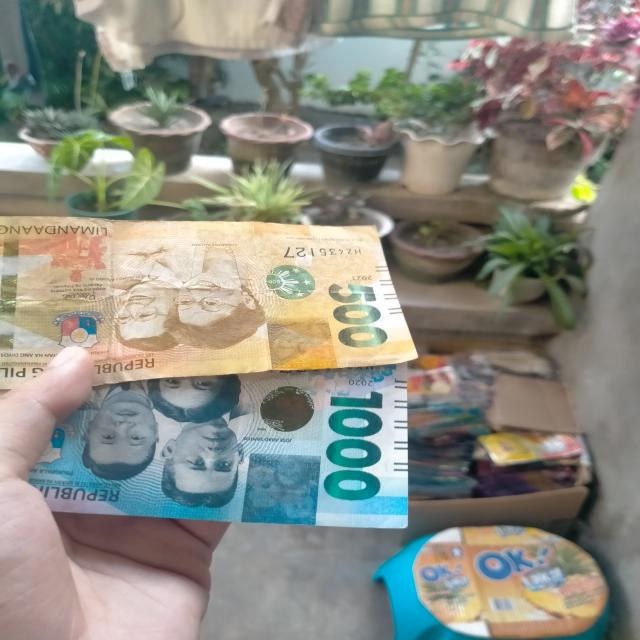concealed_value: (240, 451, 323, 525), (262, 314, 346, 372)
optically_variable_device: (249, 373, 322, 449), (256, 248, 326, 315)
security_thread: (0, 216, 17, 379)
value: (315, 386, 397, 509), (320, 266, 404, 356)
